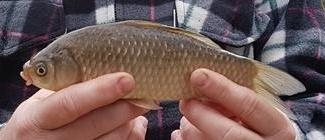Grass Carp: (21, 19, 306, 121)
